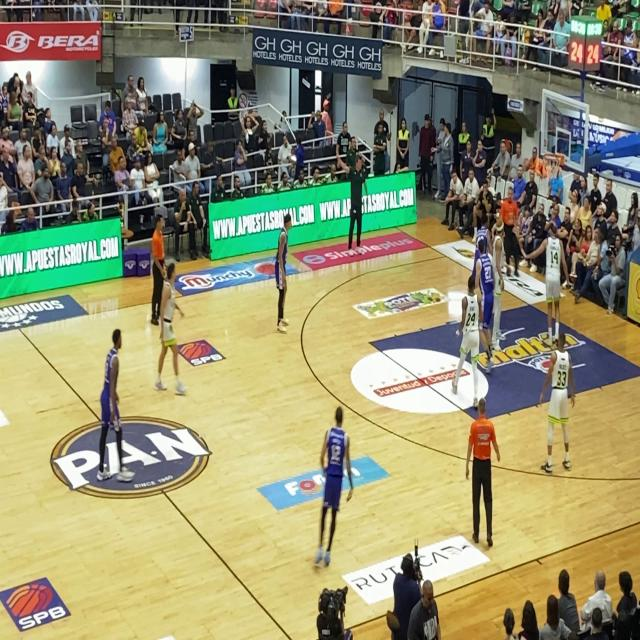Ball: (143, 203, 167, 338)
referee: (458, 380, 501, 558), (502, 185, 526, 291)
team1: (550, 323, 580, 485), (456, 268, 482, 419), (156, 264, 183, 401), (488, 215, 512, 362), (536, 218, 561, 342)
team2: (308, 382, 357, 572), (97, 310, 129, 509), (262, 190, 300, 335), (474, 240, 502, 343)
ubasket: (543, 151, 561, 182)
